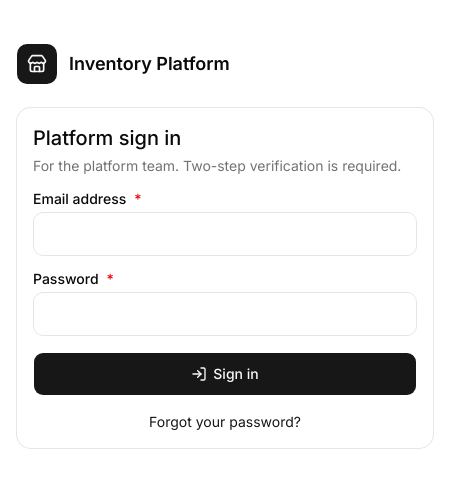
LoginScreen › shows the server's error without revealing which part was wrong
In the field labelled "Email address *": (225, 234) [33,212,417,256], type "root@example.com"
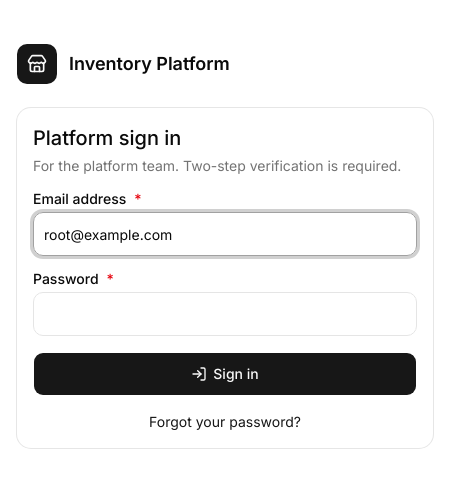
In the password field labelled "Password *": (225, 314) [33,292,417,336], type "wrong-password"
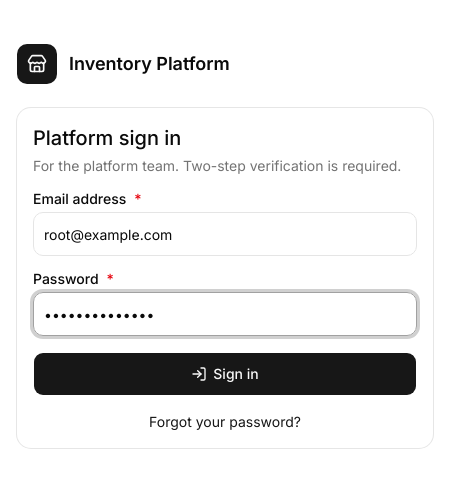
Click the button "Sign in": (225, 374) [33,352,417,396]
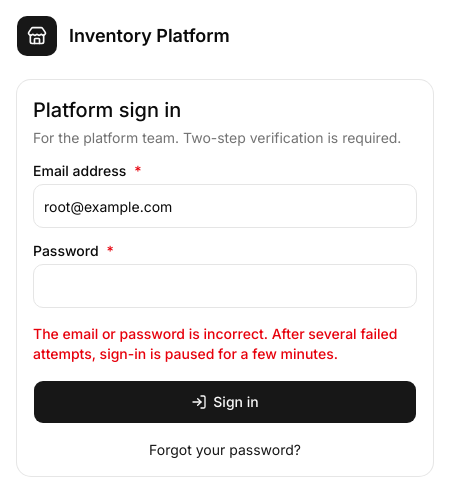
expect the message shows "email or password is incorrect": met, box [33,325,397,362]
